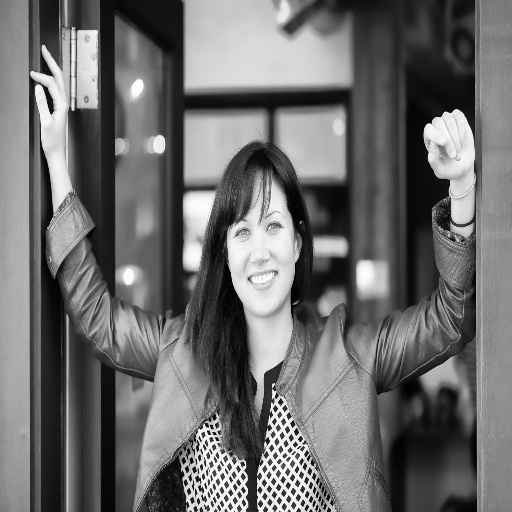hand: (30, 44, 68, 161), (422, 107, 476, 179)
